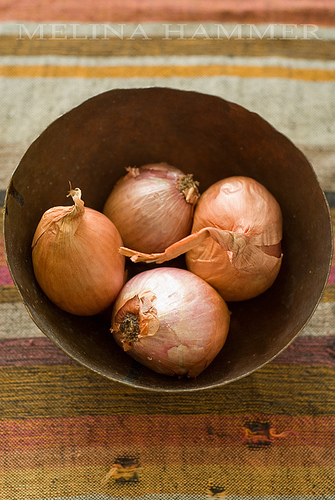onion: (106, 265, 231, 378), (168, 175, 287, 293), (30, 187, 125, 308), (101, 160, 200, 256)
